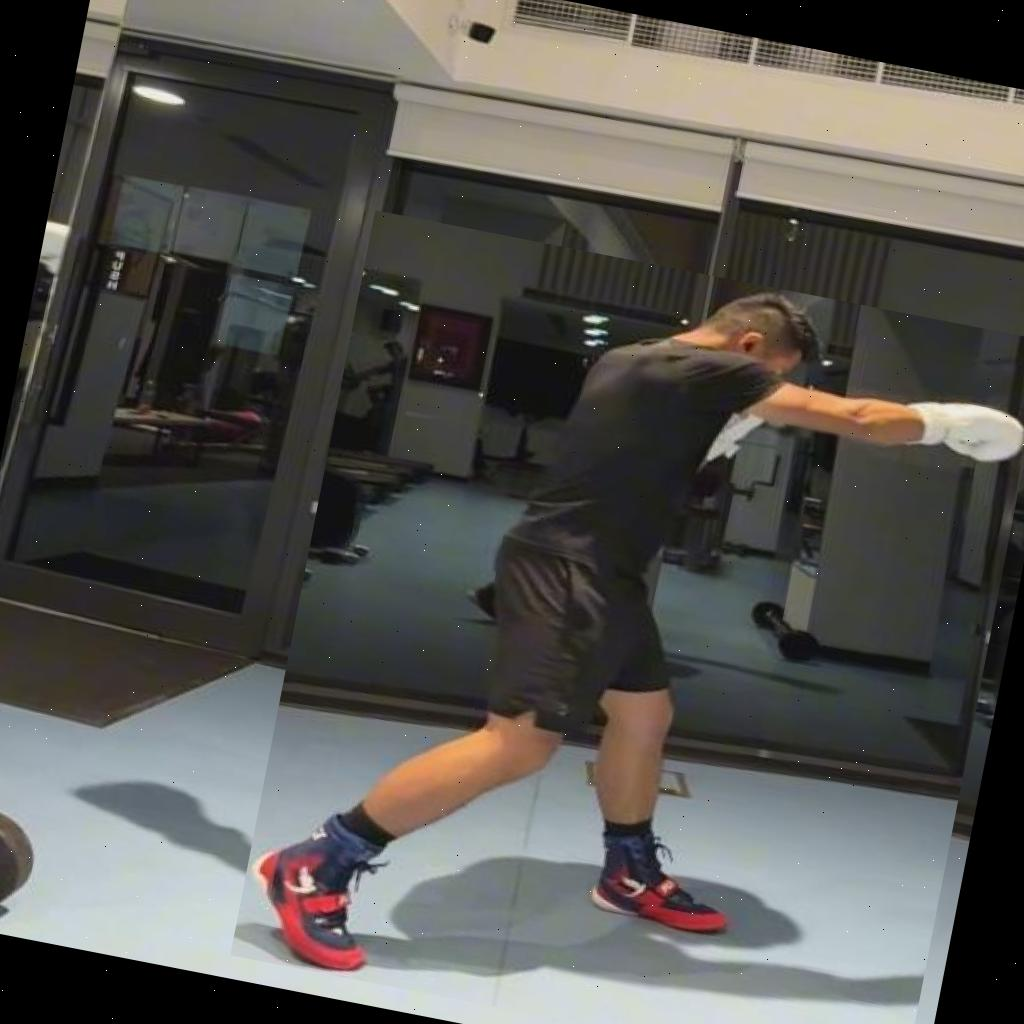cross: (230, 210, 1024, 1024)
